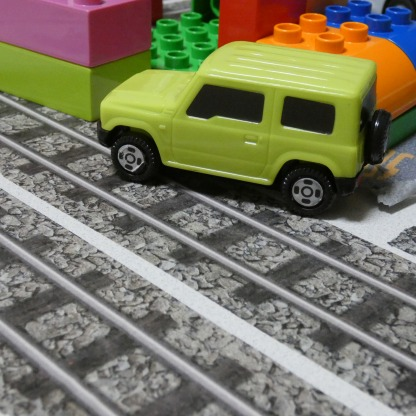car: (98, 39, 390, 214)
